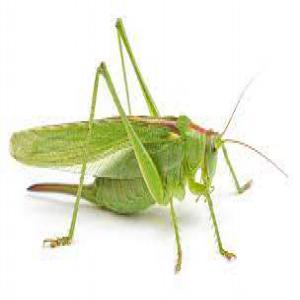locust: (6, 46, 256, 234)
